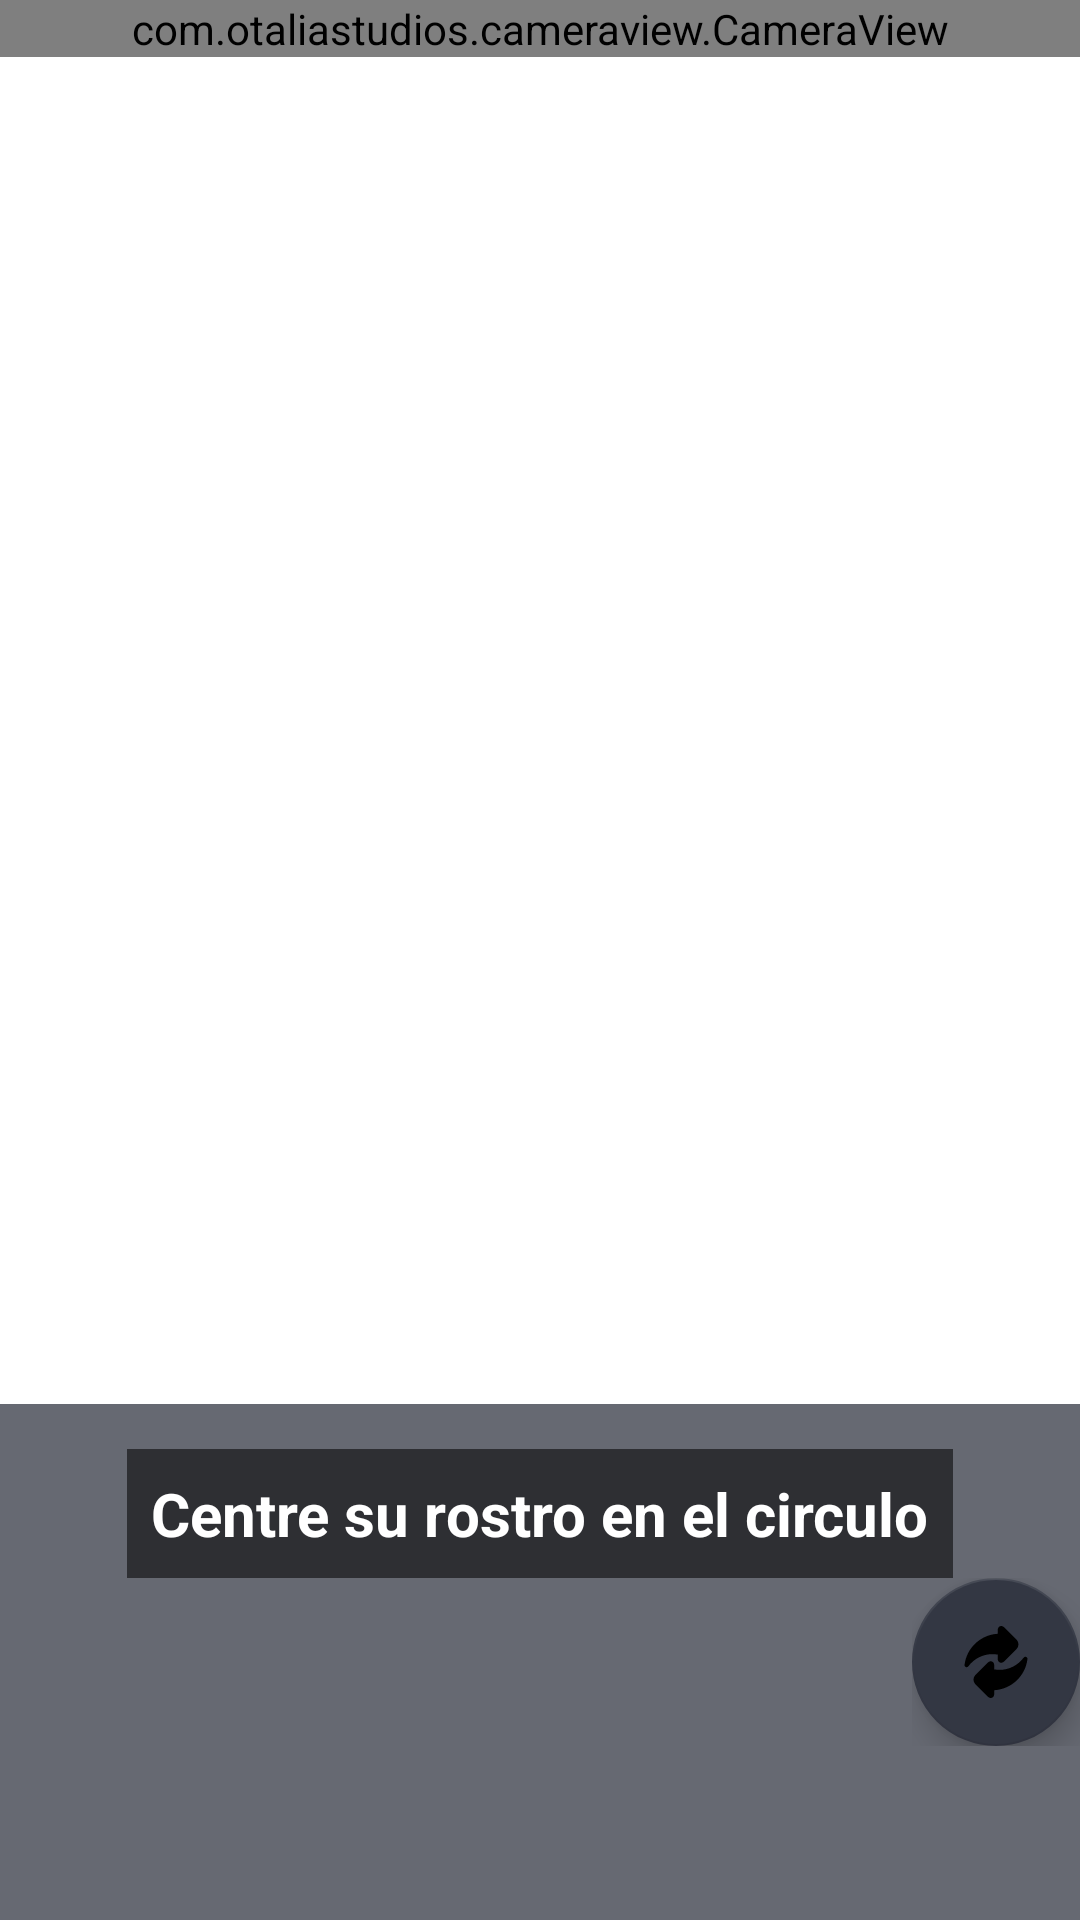

Where icons sit on this 1080px×1920px app screen, as (x1, y1, x2, y2):
cambio: (912, 1579, 1080, 1746)
